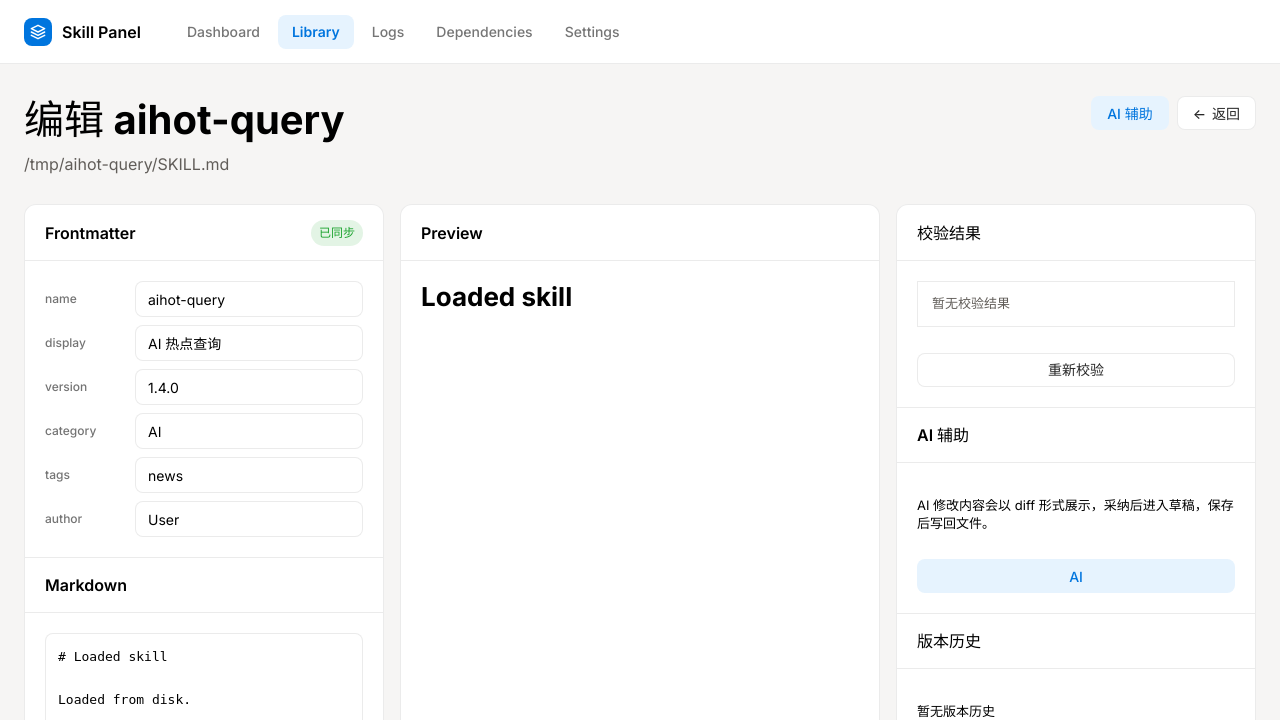
App current editor workflow › uses the live validation command when a real skill path is selected
Click the button "重新校验" at (1076, 370), box [917,352,1235,386]
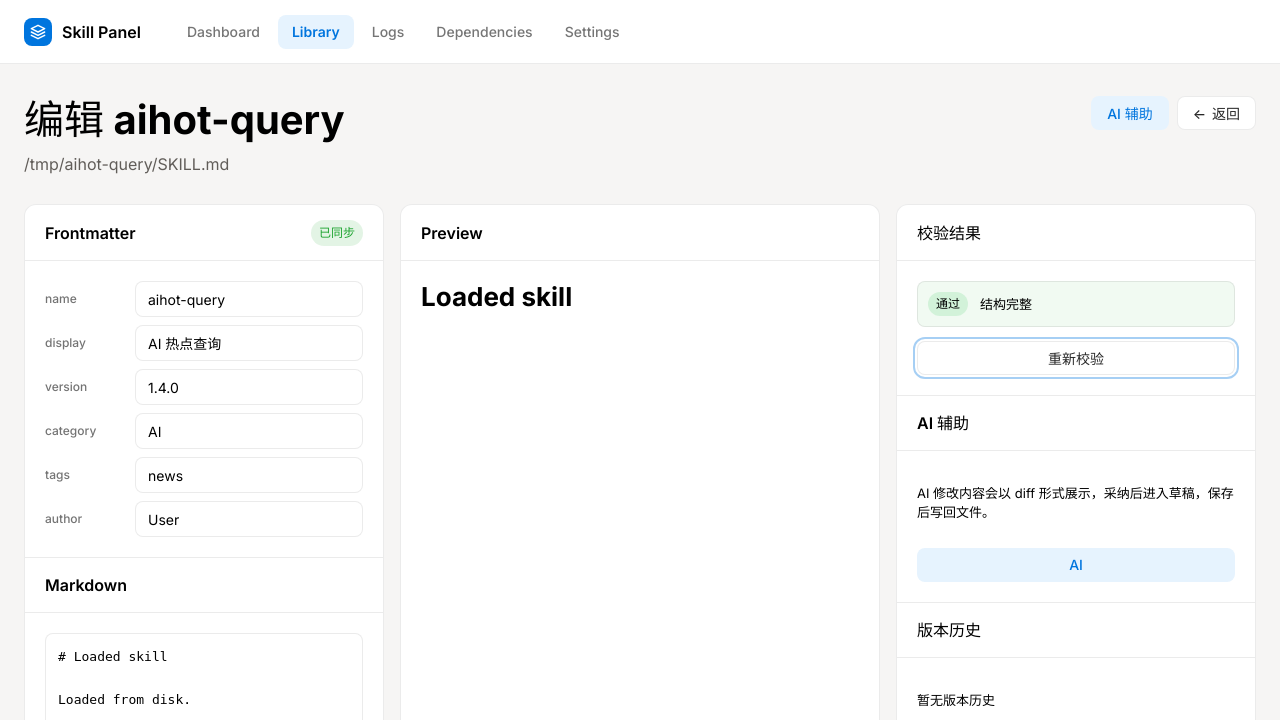
Expected: the text "结构完整" is shown, [980,295,1032,313]
